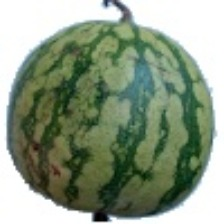watermelon: (26, 10, 210, 175)
